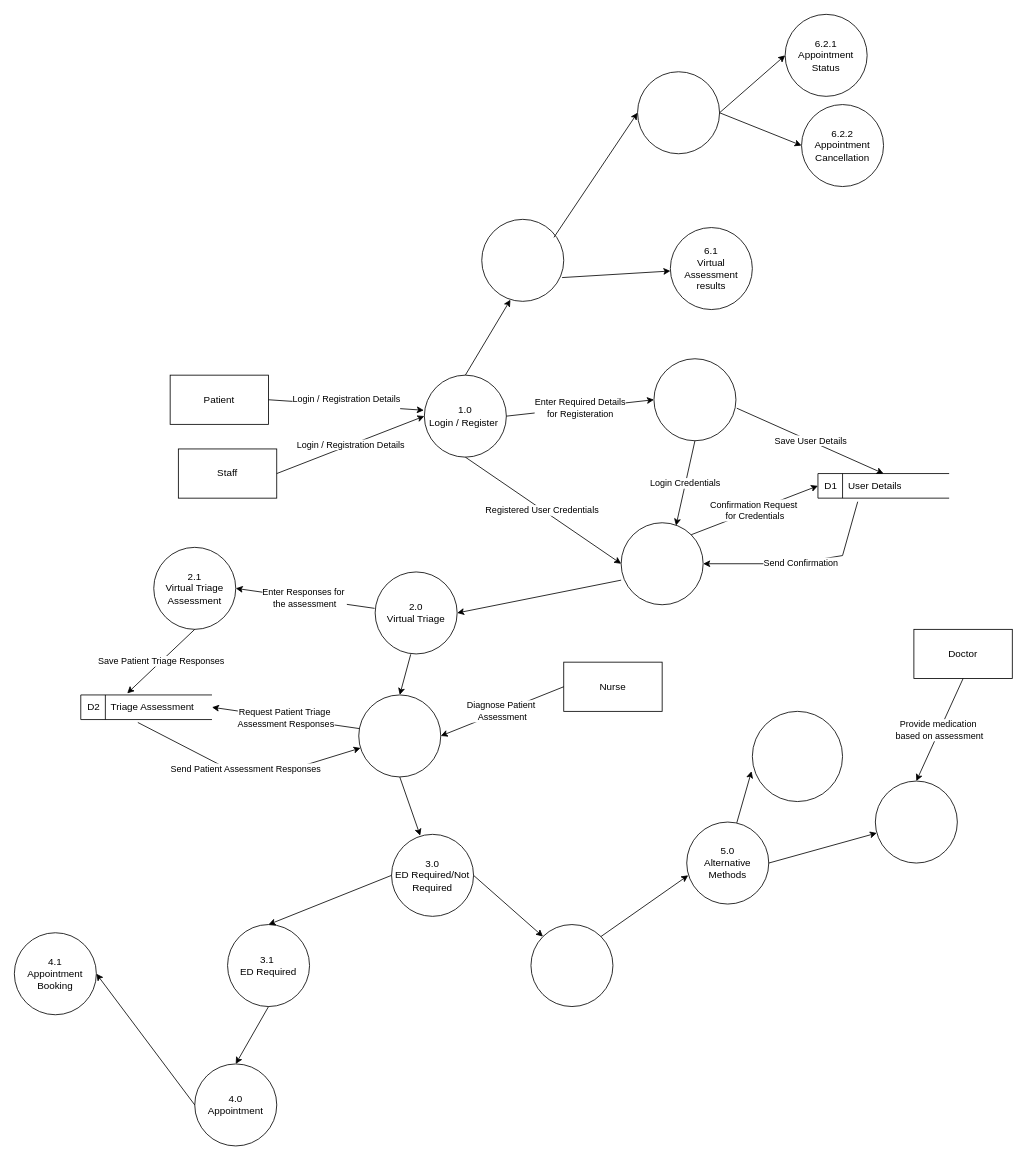
This 1027x1160 diagram has some shape labels left out. The centre of each missing label's shape, as x and y in pixels:
1.1 Login: the point at 661,563
1.2 Registration: the point at 694,399
2.2 Virtual Triage Diagnosis: the point at 399,735
3.2 ED Not Required: the point at 571,965
5.1 Counter Medication: the point at 916,821
5.2 Primary Care Clinic Recommendation: the point at 797,756
6.0 View: the point at 522,260
6.2 Appointment: the point at 678,112
